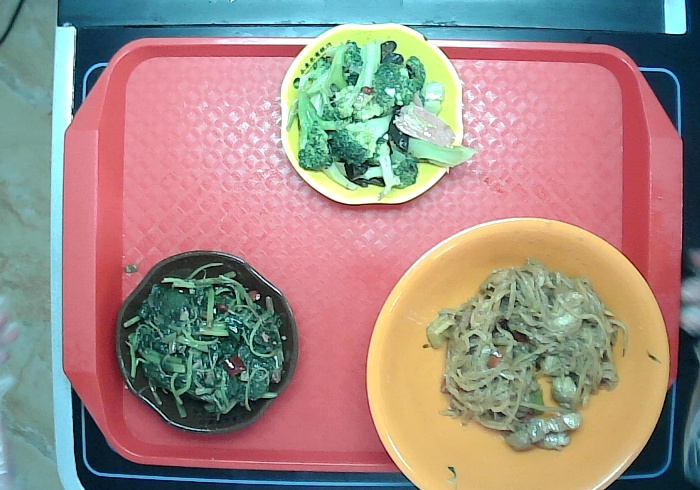YKMZ-Huang_Se_Ao_Bian_Wan: (270, 14, 474, 214)
YKMZ-Ju_Se_Tang_Wan: (353, 216, 672, 490)
YKMZ-Ka_Fei_Ao_Bian_Wan: (112, 236, 312, 442)
